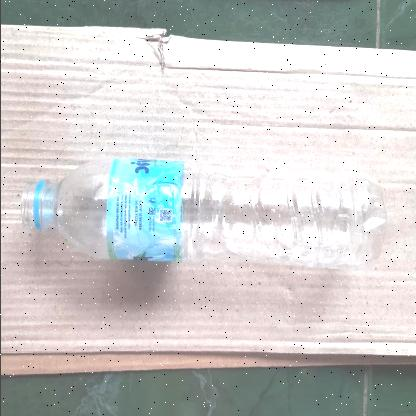Plastic Bottle: (22, 156, 388, 270)
